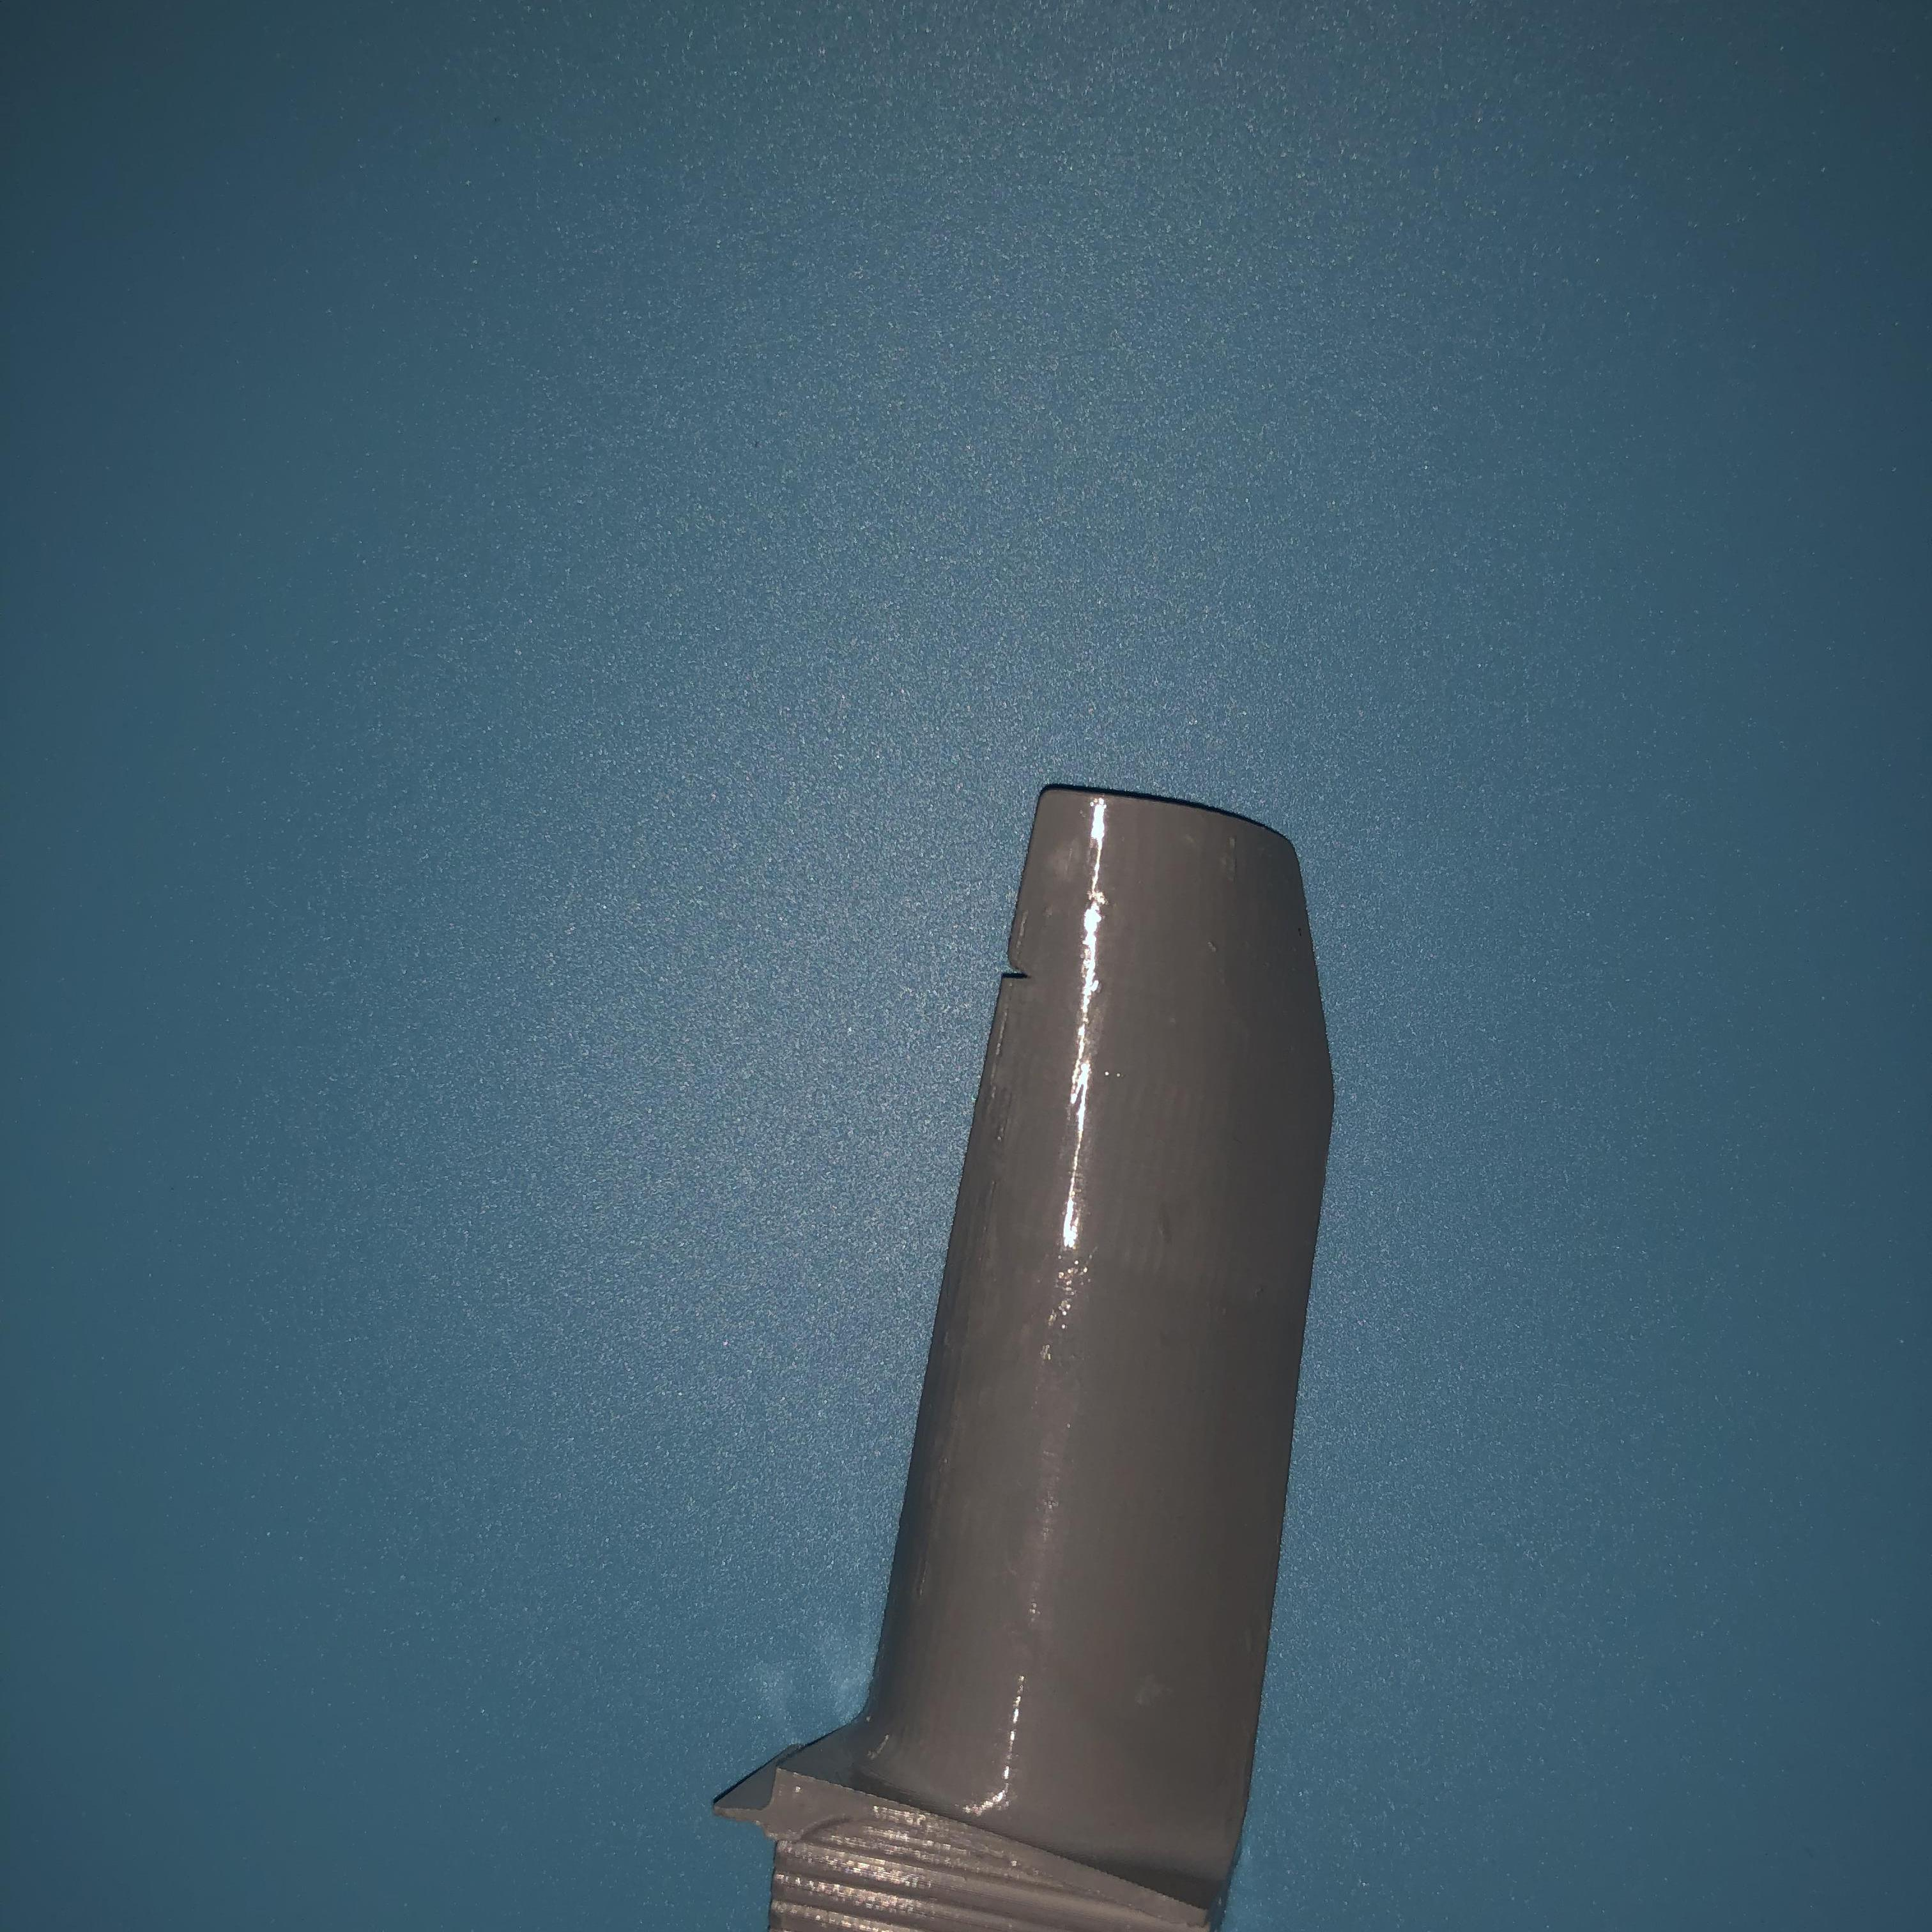groove: (996, 966, 1058, 985)
